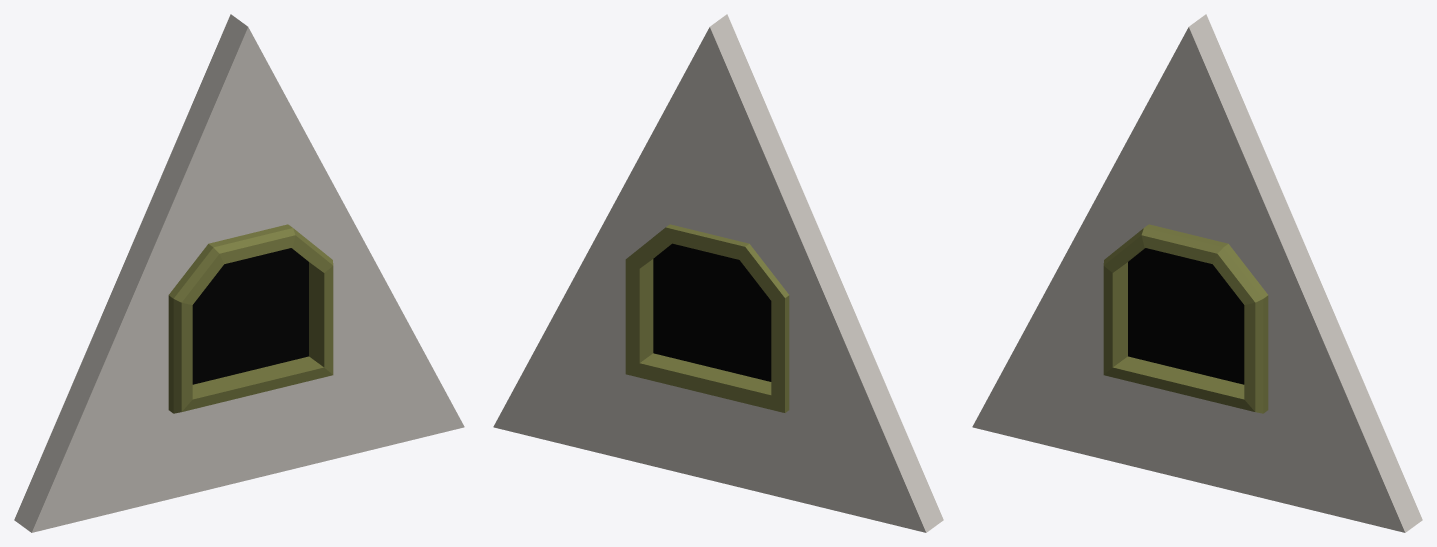
The model's file is _ROOF_BIG_TRIANGLE_04_1.fbx.
3 renders of one model, left to right at view 1: azimuth 30°, elevation 25°; view 2: azimuth 150°, elevation 25°; view 3: azimuth 330°, elevation 25°, orthographic.
Parts seen in each view (by area): view 1: ROOF_BIG_TRIANGLE_04_1; view 2: ROOF_BIG_TRIANGLE_04_1; view 3: ROOF_BIG_TRIANGLE_04_1.
Part boxes in pixels (bbox=[...]): ROOF_BIG_TRIANGLE_04_1: bbox=[14, 14, 464, 532]; ROOF_BIG_TRIANGLE_04_1: bbox=[493, 14, 943, 532]; ROOF_BIG_TRIANGLE_04_1: bbox=[972, 14, 1422, 532].
Size of the model in its own units: 100 by 100 by 12.77.
